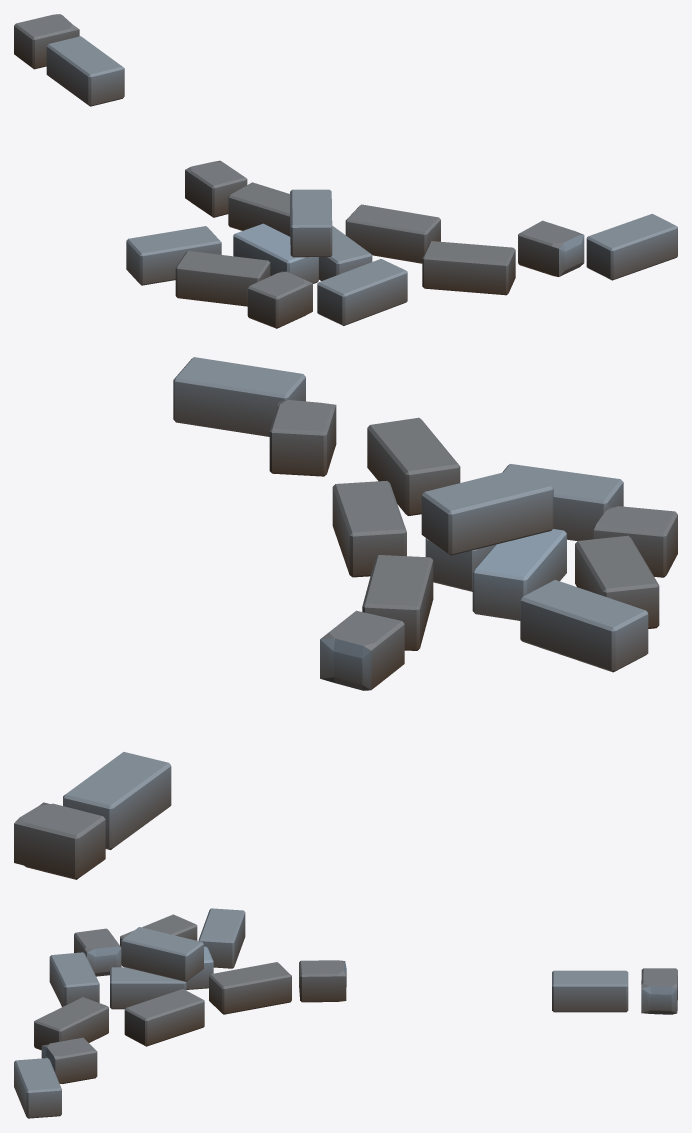
3 renders of one model, top to bottom at view 1: azimuth 30°, elevation 25°; view 2: azimuth 150°, elevation 25°; view 3: azimuth 270°, elevation 25°, orthographic. The views are drawn at different scales.
Parts seen in each view (by area): view 1: Cube.054; view 2: Cube.054; view 3: Cube.054.
Boxes of the visible parts, x1,y1,x2,y2 form: Cube.054: (14,14,677,328); Cube.054: (14,357,677,879); Cube.054: (14,908,677,1118).
Bounding box in the file's own units: 9.71 × 1.39 × 14.82.
